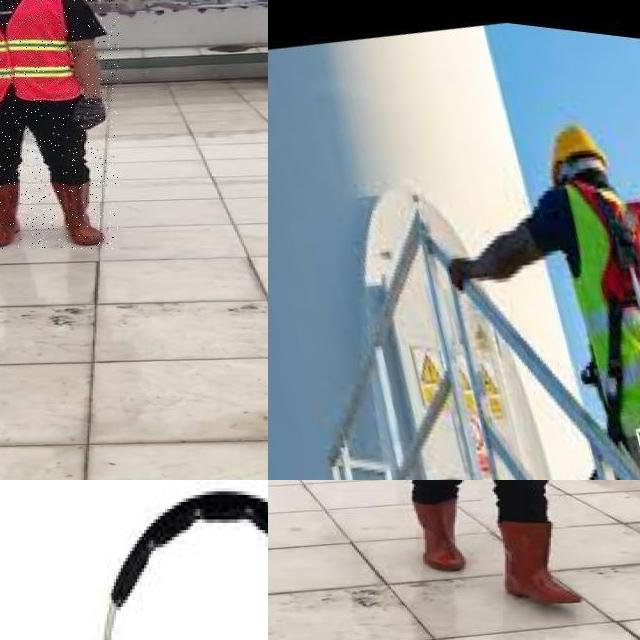Ear-protection: (26, 480, 268, 640)
Harness: (566, 180, 640, 442)
boots: (498, 519, 581, 603), (409, 499, 467, 571), (52, 181, 107, 247), (0, 181, 25, 249)
person: (355, 480, 590, 609), (0, 0, 119, 249)
vest: (0, 0, 78, 104)
